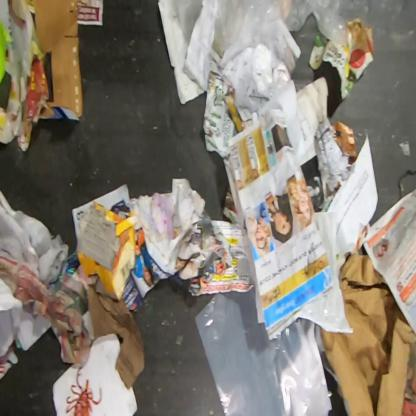cardboard: (34, 0, 84, 123)
soft_plastic: (168, 0, 349, 134), (194, 287, 333, 416)
